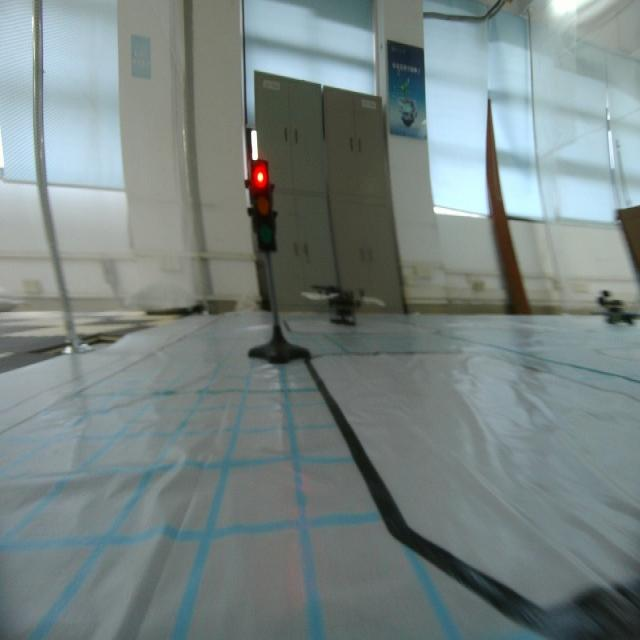red: (246, 157, 284, 261)
